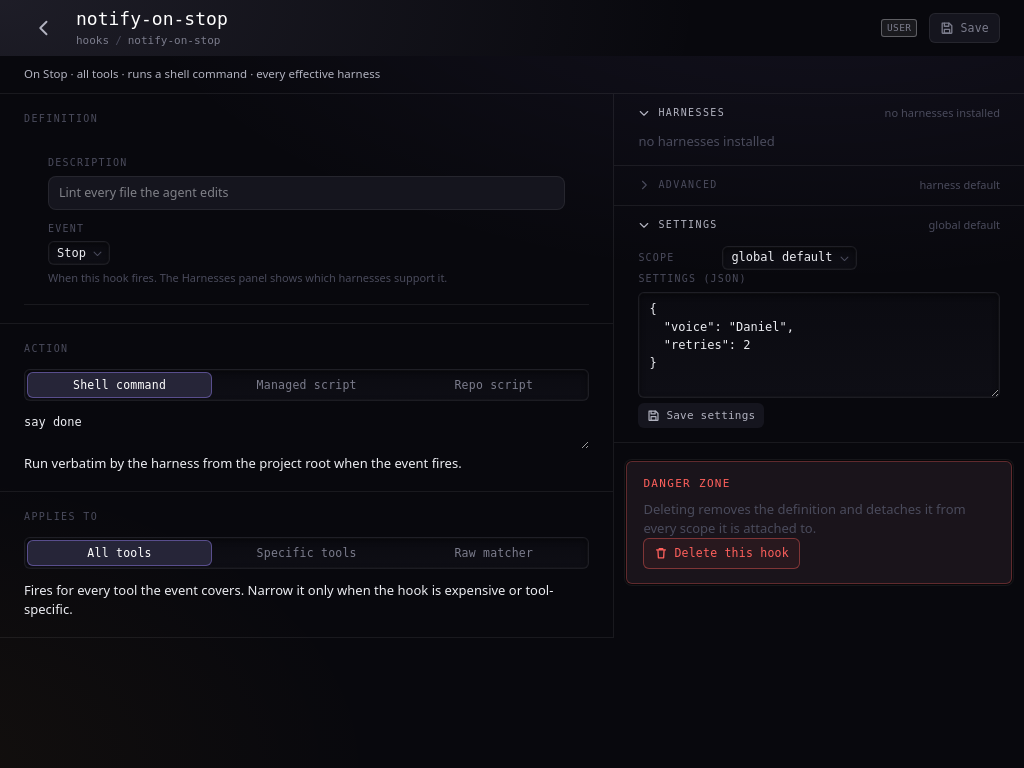
Test: HookEditor — generic (non-lsp) settings editor › a scope switch clears a stale parse error
The image size is (1024, 768).
Replace the text in the text box named "settings JSON" with "nope". click: [819, 344]
box: x1=638 y1=292 x2=1000 y2=398
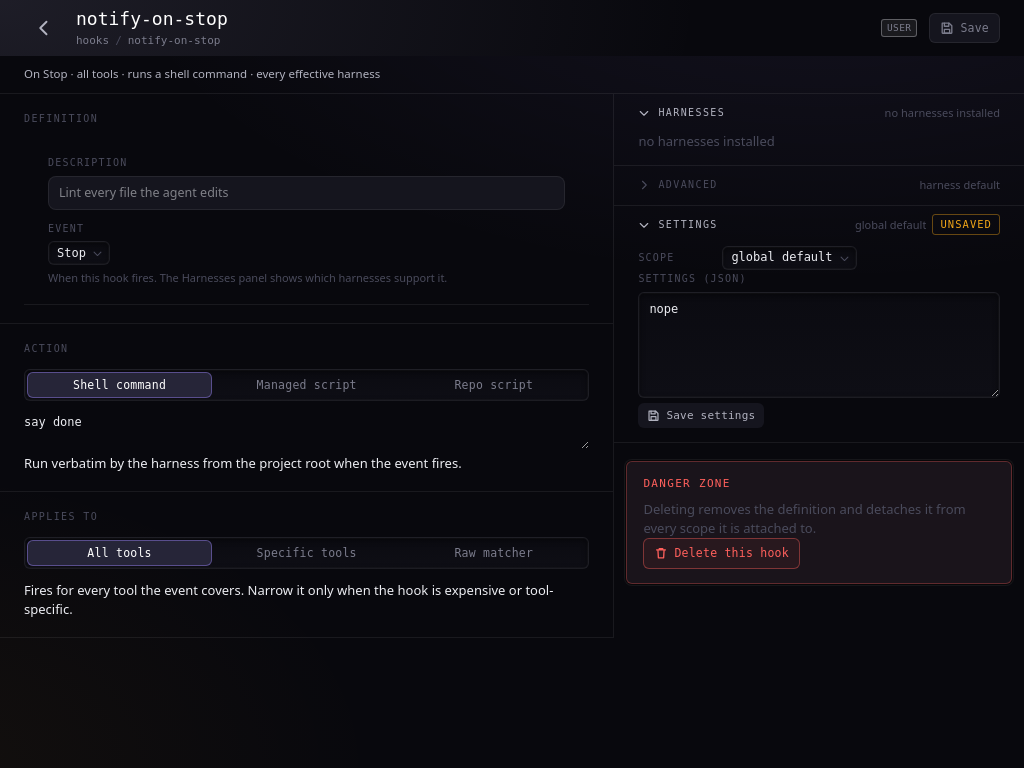
Click the button "Save settings". click: [701, 415]
box: x1=638 y1=402 x2=764 y2=428
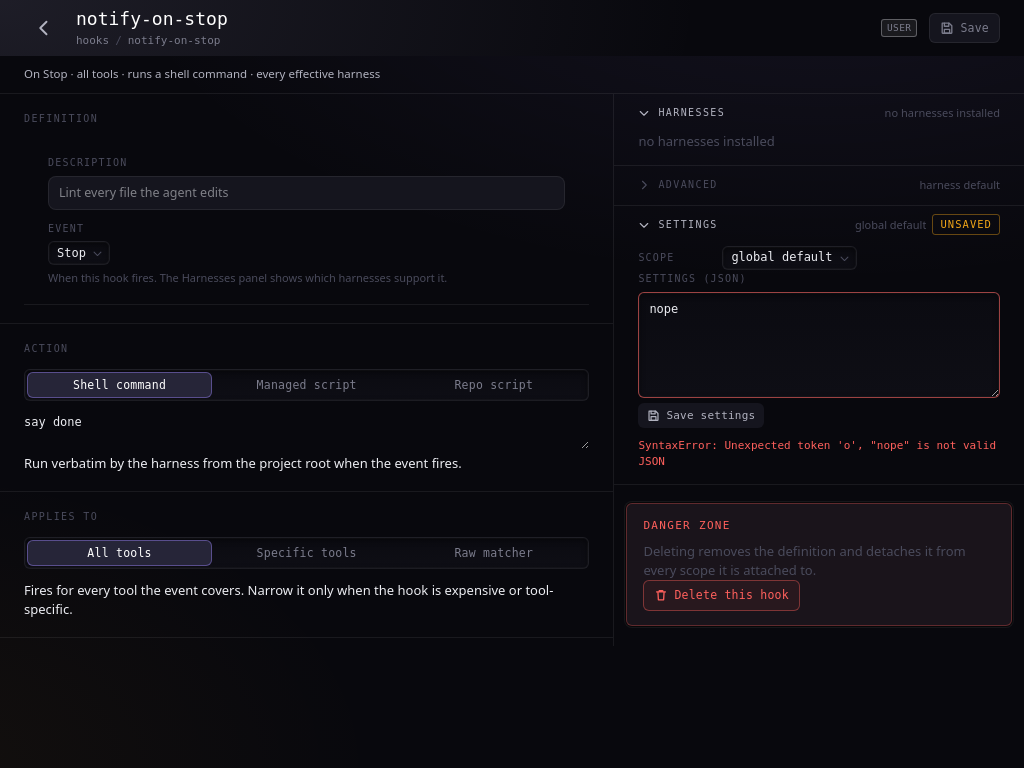
expect the message "SyntaxError: Unexpected token 'o', \"nope\" is not valid JSON" is shown: met, box x1=638 y1=438 x2=1000 y2=470
Click the dropdown named "settings scope". click: [790, 258]
box: x1=722 y1=246 x2=857 y2=270
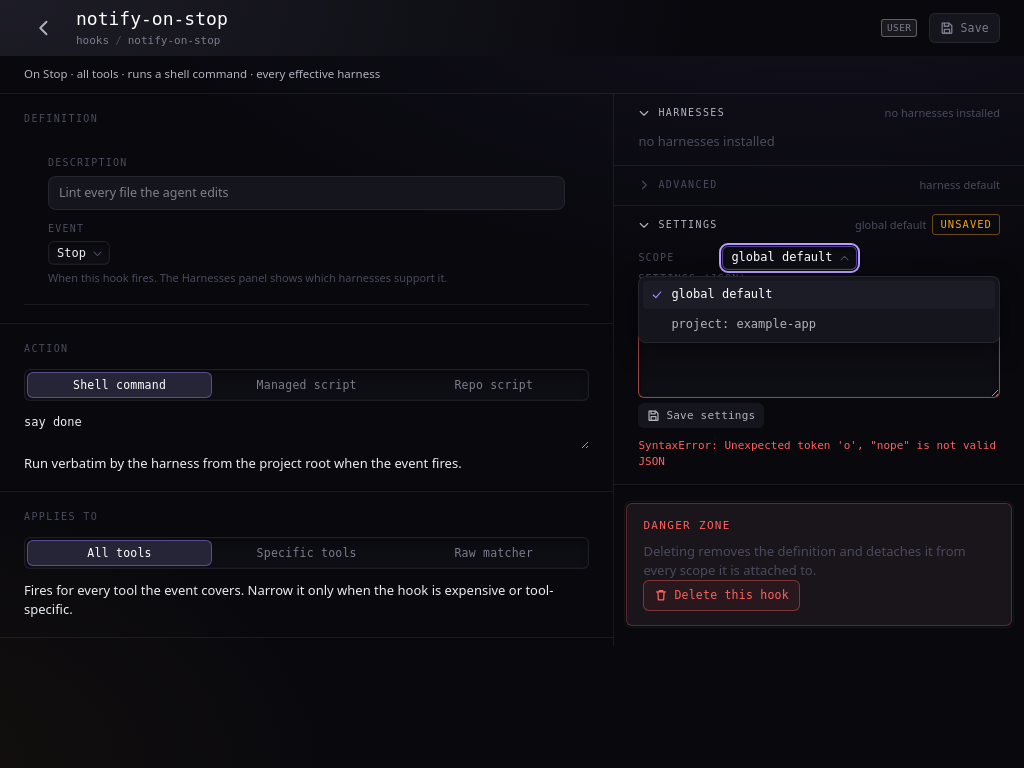
Click the option "project: example-app". click: [744, 324]
box: x1=671 y1=317 x2=816 y2=331
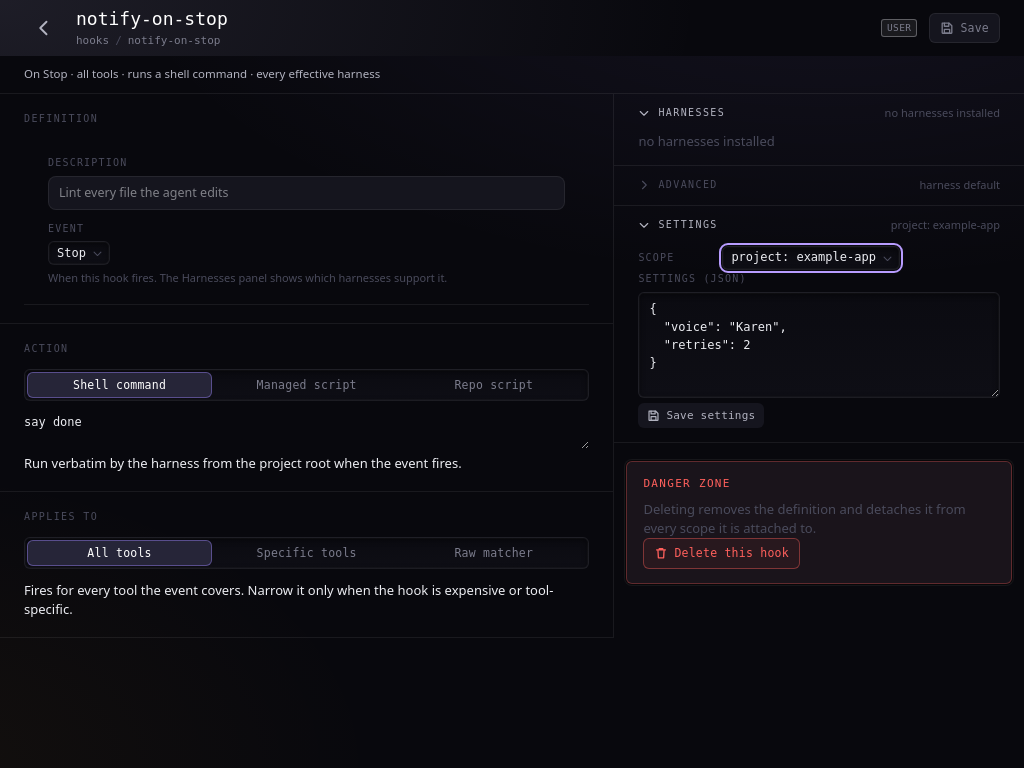
expect the message "SyntaxError: Unexpected token 'o', \"nope\" is not valid JSON" is gone: met
